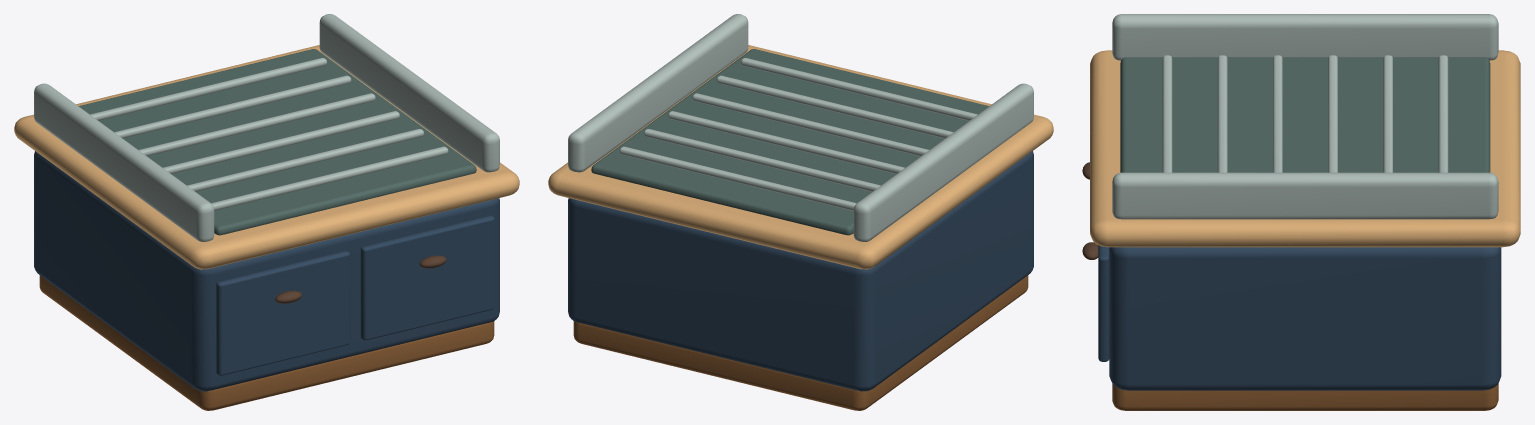
Rendered from station-return.obj.
3 views of the same model, side by side, from view 1: azimuth 30°, elevation 25°; view 2: azimuth 150°, elevation 25°; view 3: azimuth 270°, elevation 25° (orthographic). The views are drawn at different scales.
Parts seen in each view (by area): view 1: station-return_navy, station-return_metal, station-return_darkMetal, station-return_oakLight, station-return_oakDark, station-return_cocoa; view 2: station-return_navy, station-return_metal, station-return_darkMetal, station-return_oakLight, station-return_oakDark; view 3: station-return_navy, station-return_metal, station-return_darkMetal, station-return_oakLight, station-return_oakDark.
Boxes of the visible parts, x1,y1,x2,y2 form: station-return_navy: (34, 151, 499, 391); station-return_metal: (34, 14, 499, 241); station-return_darkMetal: (79, 49, 476, 235); station-return_oakLight: (14, 45, 519, 269); station-return_oakDark: (39, 275, 494, 410); station-return_cocoa: (275, 255, 446, 303); station-return_navy: (568, 151, 1033, 391); station-return_metal: (568, 14, 1033, 241); station-return_darkMetal: (591, 49, 988, 235); station-return_oakLight: (548, 45, 1053, 269); station-return_oakDark: (573, 275, 1028, 410); station-return_navy: (1098, 245, 1501, 390); station-return_metal: (1112, 14, 1498, 219); station-return_darkMetal: (1120, 57, 1490, 172); station-return_oakLight: (1090, 50, 1520, 247); station-return_oakDark: (1112, 383, 1498, 410).
Bounding box in the file's own units: 0.78 × 0.4771 × 0.794.
